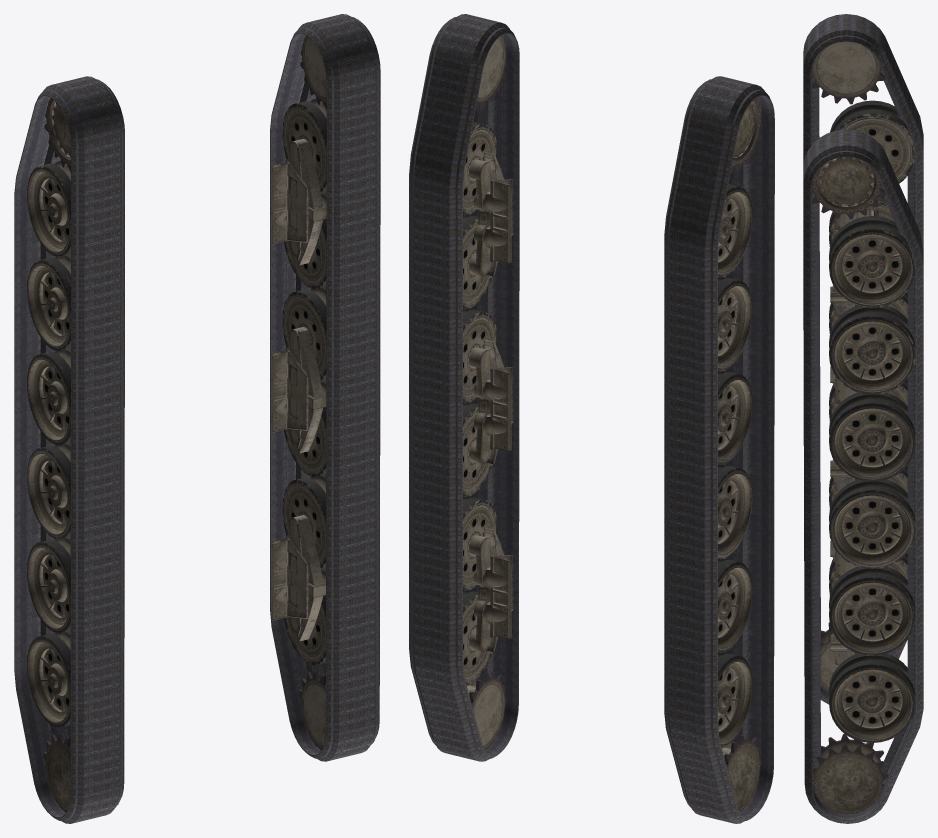
The model's file is Chassis.glb.
3 views of the same model, side by side, from view 1: azimuth 30°, elevation 25°; view 2: azimuth 150°, elevation 25°; view 3: azimuth 270°, elevation 25° (orthographic). The views are drawn at different scales.
Visible parts, largest first — view 1: set_1_group_0, set_0_group_0, set_2_group_0, set_3_group_0; view 2: set_1_group_0, set_0_group_0, set_2_group_0, set_3_group_0; view 3: set_2_group_0, set_0_group_0, set_3_group_0, set_1_group_0.
Boxes of the visible parts, <box> form: set_1_group_0: <box>14,76,124,823</box>; set_0_group_0: <box>270,14,380,761</box>; set_2_group_0: <box>272,35,326,750</box>; set_3_group_0: <box>27,97,70,812</box>; set_1_group_0: <box>664,76,774,823</box>; set_0_group_0: <box>409,14,519,761</box>; set_2_group_0: <box>463,35,513,749</box>; set_3_group_0: <box>718,97,761,812</box>; set_2_group_0: <box>811,157,915,814</box>; set_0_group_0: <box>803,129,923,823</box>; set_3_group_0: <box>811,41,915,693</box>; set_1_group_0: <box>803,14,923,704</box>.
Bounding box in the file's own units: 2.66 × 6.04 × 0.9723.
4 materials, 4 textured.
